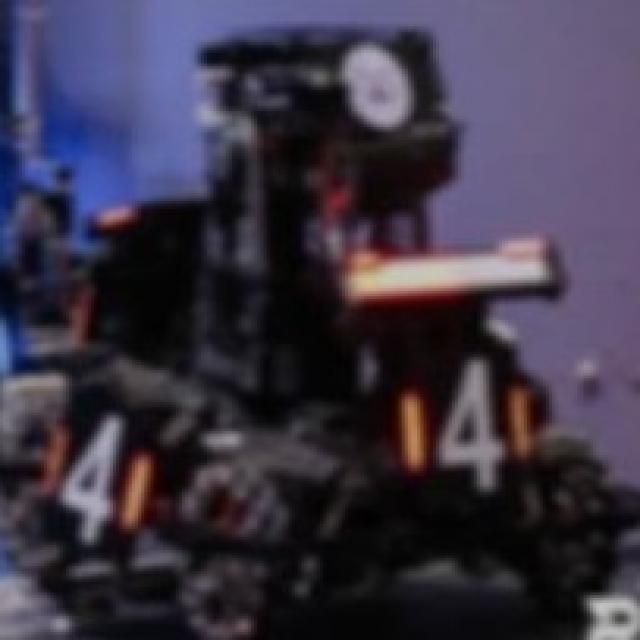R4: (402, 354, 534, 492), (41, 412, 157, 544)
